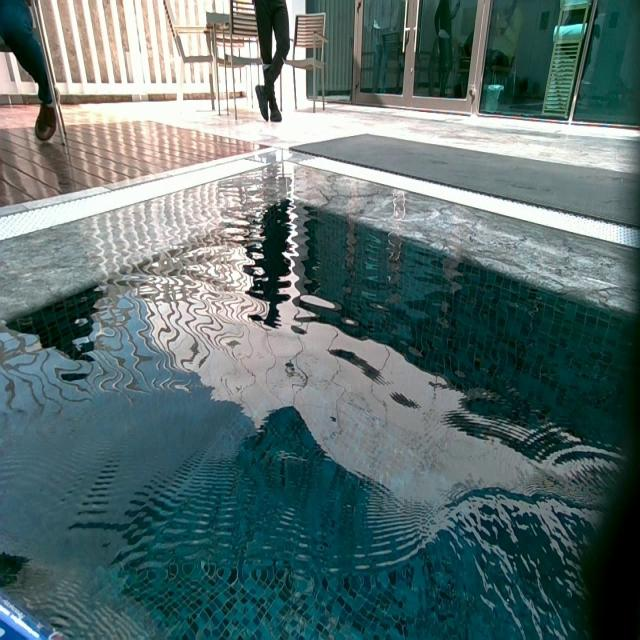Cans: (0, 587, 71, 640)
